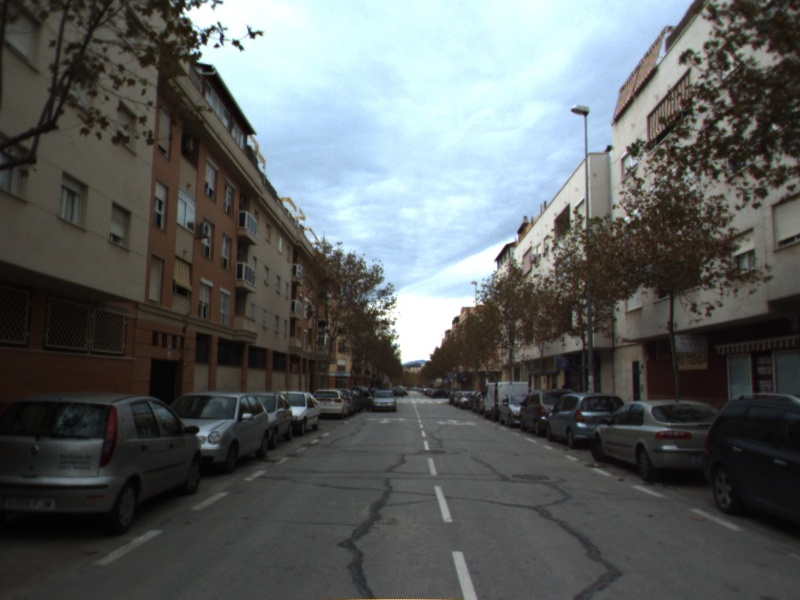STRAIGHT_LEFT_RIGHT: (434, 415, 478, 428)
